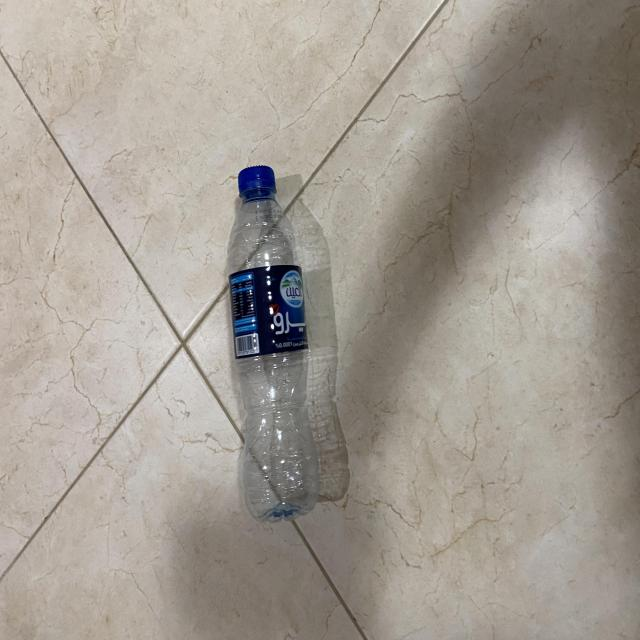plastic: (225, 159, 322, 526)
